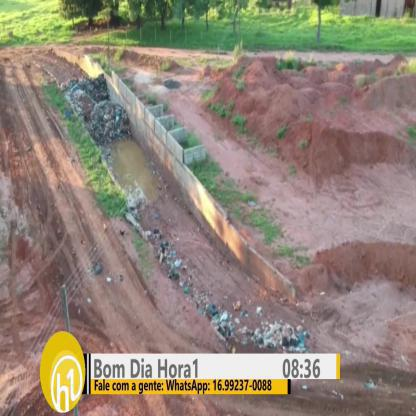agua: (117, 137, 147, 181)
lixo: (216, 307, 313, 351), (90, 101, 126, 130)
